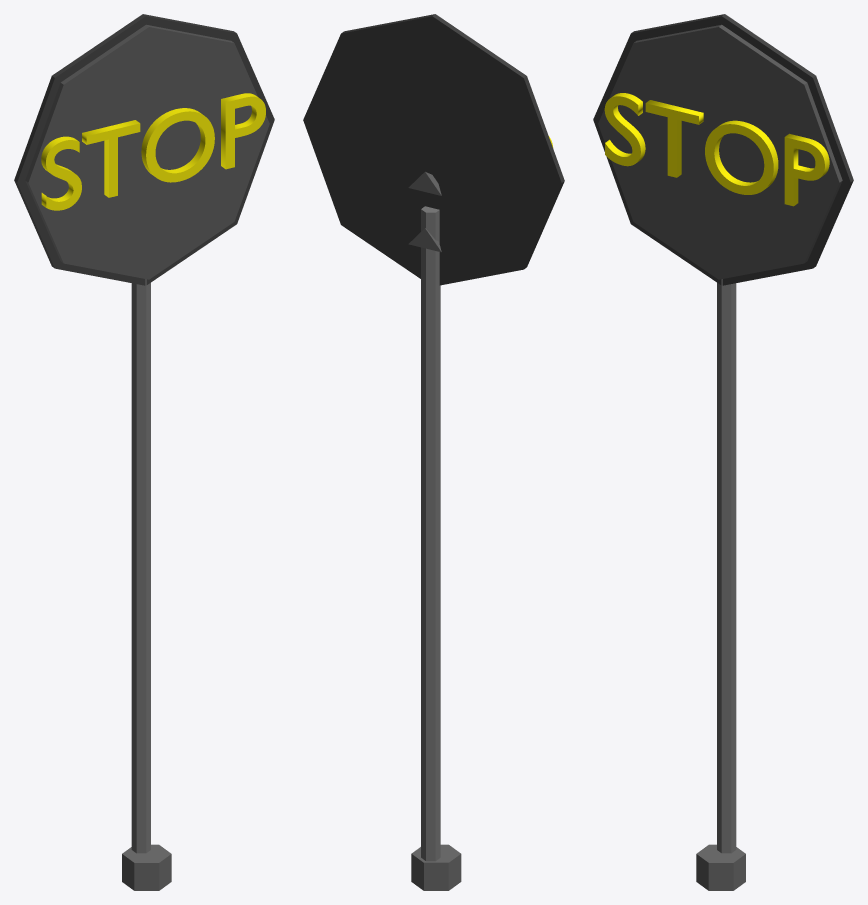
The picture shows the model from 3 angles, left to right: view 1: azimuth 30°, elevation 25°; view 2: azimuth 150°, elevation 25°; view 3: azimuth 330°, elevation 25°; orthographic projection.
Parts seen in each view (by area): view 1: Cylinder.003, Cylinder.001, Text, Cylinder.002, Cylinder; view 2: Cylinder.002, Cylinder.001, Cylinder; view 3: Cylinder.003, Cylinder.001, Text, Cylinder.002, Cylinder.
Part boxes in pixels (box(x1,y1,x2,y2)): Cylinder.003: box(25, 24, 269, 279); Cylinder.001: box(131, 279, 150, 853); Text: box(41, 93, 265, 210); Cylinder.002: box(14, 14, 274, 285); Cylinder: box(122, 844, 171, 890); Cylinder.002: box(303, 14, 564, 285); Cylinder.001: box(421, 206, 440, 861); Cylinder: box(411, 844, 461, 890); Cylinder.003: box(598, 24, 842, 279); Cylinder.001: box(717, 279, 736, 853); Text: box(604, 93, 829, 206); Cylinder.002: box(593, 14, 853, 285); Cylinder: box(696, 844, 745, 890).
Bounding box in the file's own units: 0.96 × 3.08 × 0.16.
